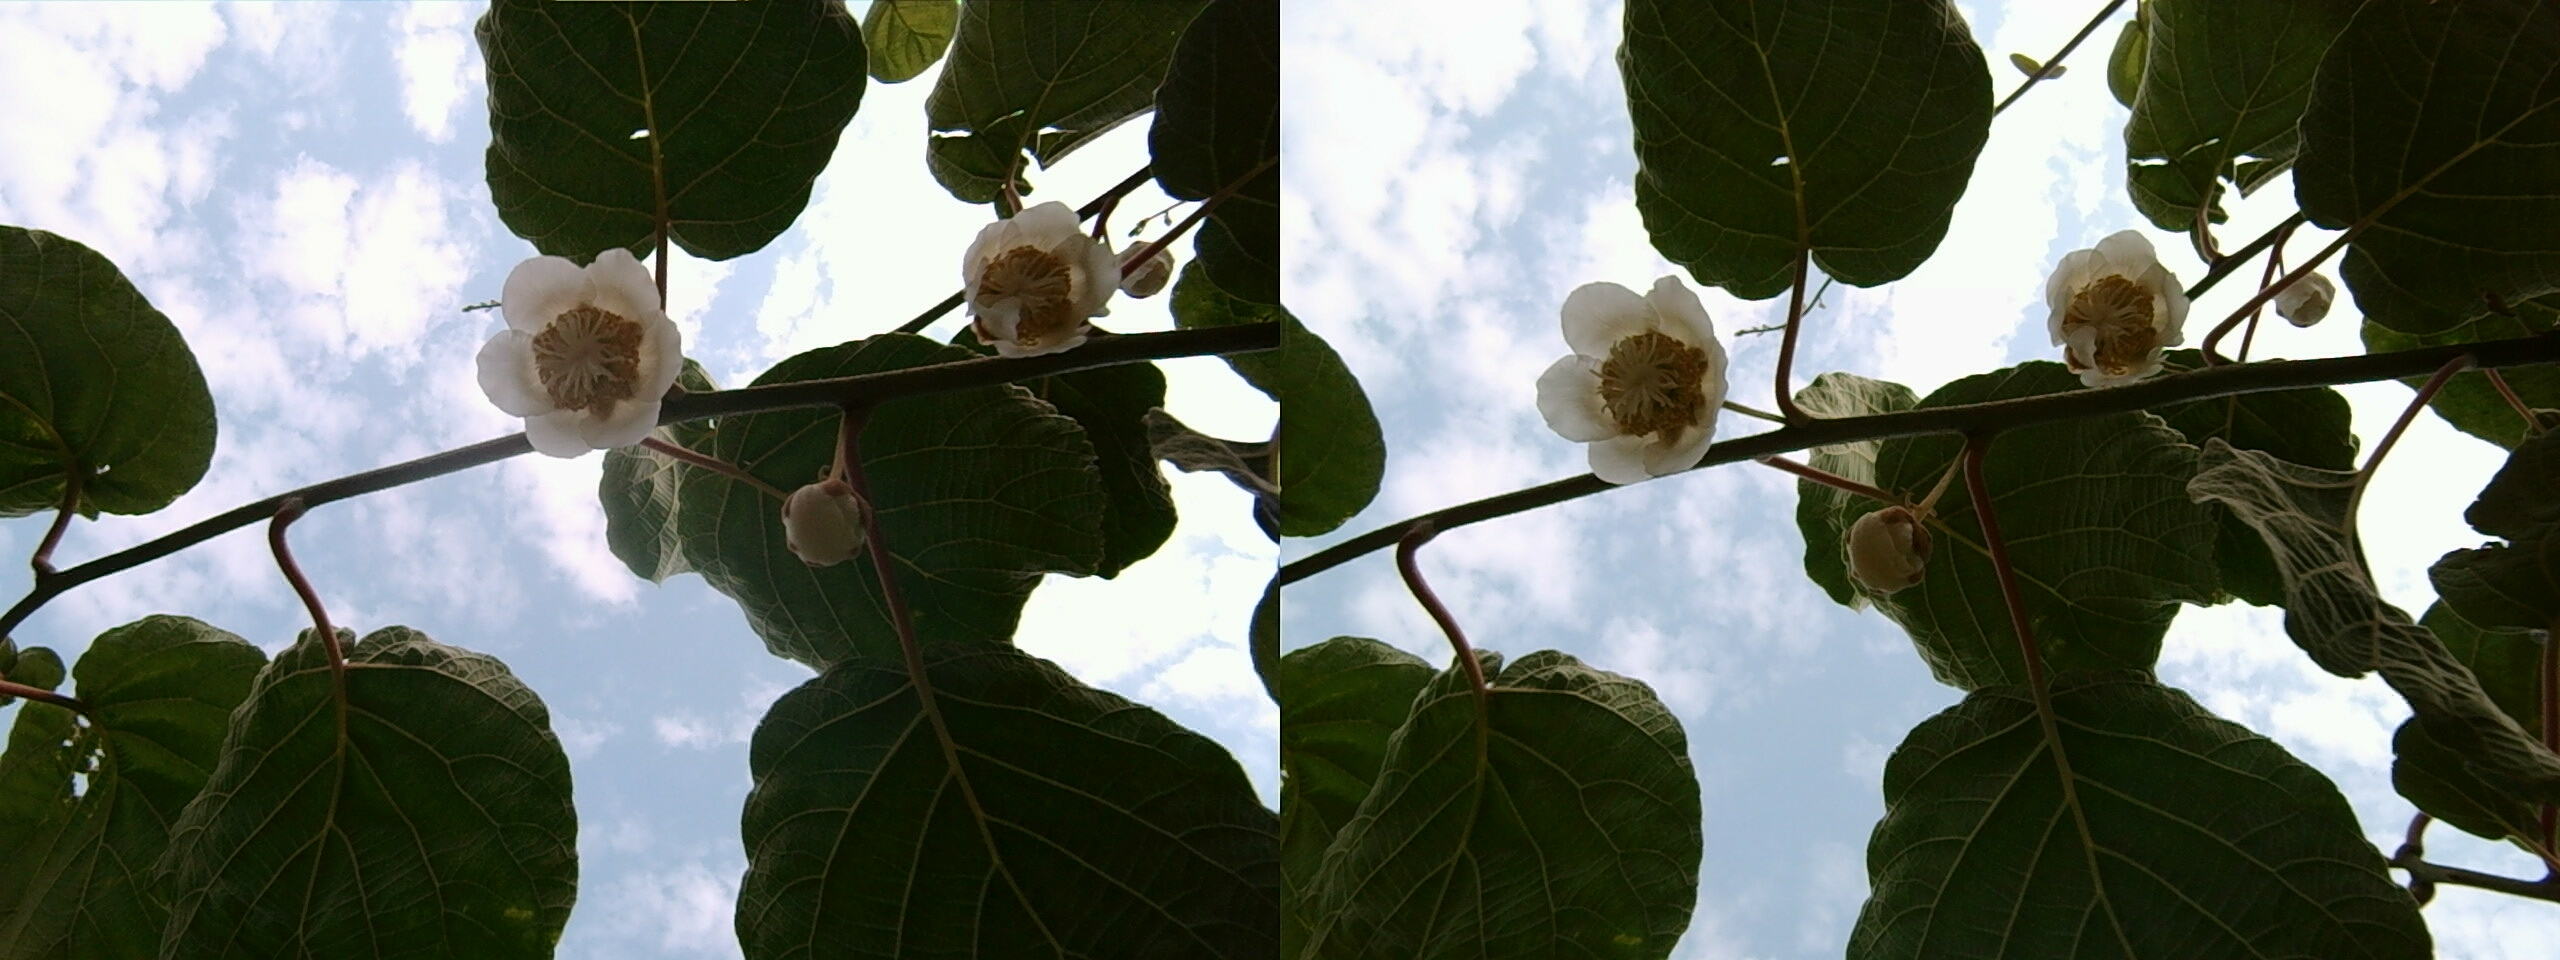flower: (465, 240, 679, 451), (1533, 260, 1731, 473), (957, 198, 1131, 348), (2041, 224, 2189, 379)
